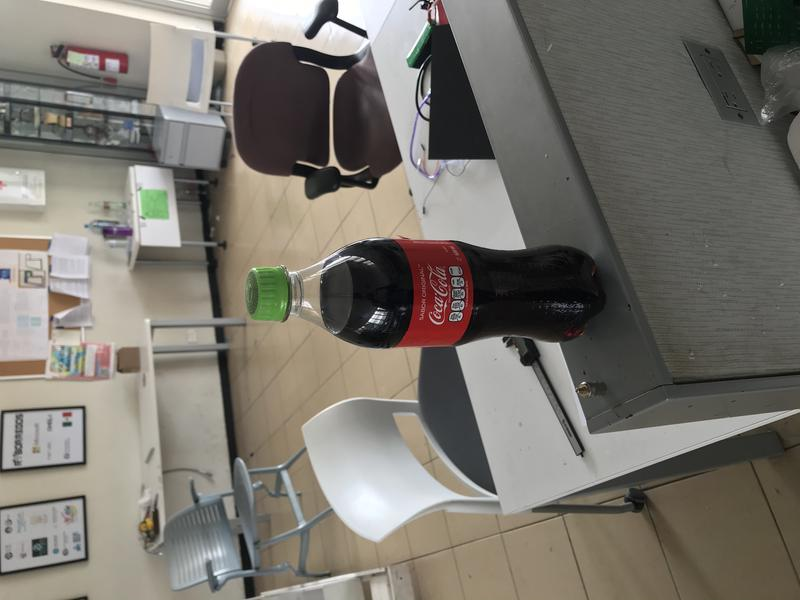coca_cola: (244, 239, 609, 349)
